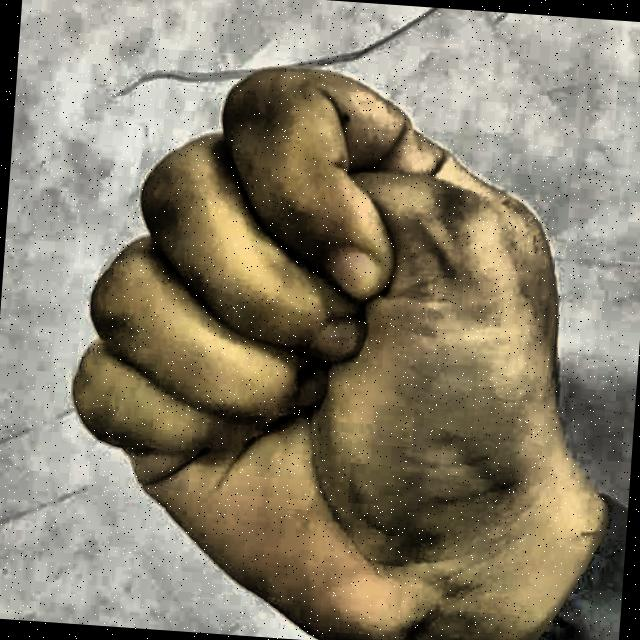To: (41, 22, 602, 640)
